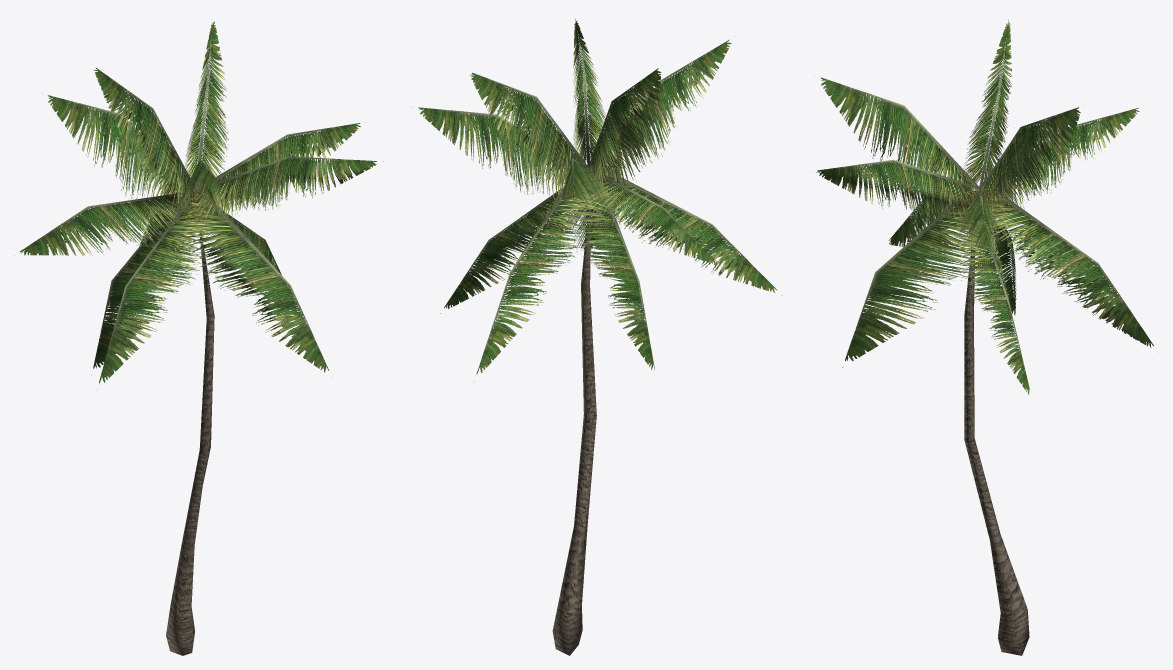
File: palmLOD3.fbx
3 renders of one model, left to right at view 1: azimuth 30°, elevation 25°; view 2: azimuth 150°, elevation 25°; view 3: azimuth 270°, elevation 25°, orthographic. The views are drawn at different scales.
Visible parts, largest first — view 1: polySurface184; view 2: polySurface184; view 3: polySurface184.
Part boxes in pixels (<box>): polySurface184: <box>14,21,383,655</box>; polySurface184: <box>412,19,782,655</box>; polySurface184: <box>814,20,1153,655</box>.
Size of the model in its own units: 7.79 by 13.72 by 7.25.
